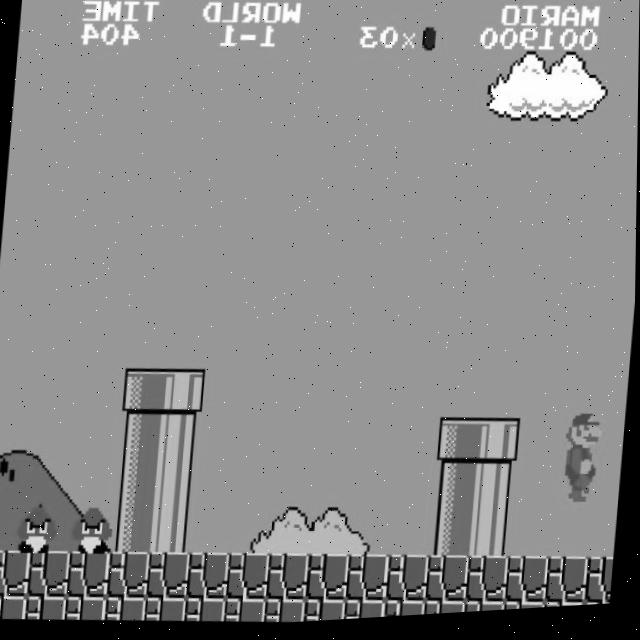0- big_mario: (559, 412, 609, 511)
14- pipe: (111, 504, 156, 556), (154, 460, 199, 511), (151, 505, 196, 556), (434, 466, 478, 518), (158, 414, 203, 464), (474, 467, 518, 518), (470, 513, 514, 564), (430, 512, 474, 563), (115, 459, 159, 510), (119, 413, 163, 463)
15- pipe_head: (162, 368, 207, 419), (122, 368, 167, 419), (477, 422, 522, 472), (437, 421, 482, 471)
17- undestructible_block: (67, 549, 112, 601), (506, 560, 551, 611), (466, 559, 511, 610), (426, 558, 471, 609), (386, 557, 431, 608), (346, 556, 391, 607), (107, 551, 152, 602), (546, 561, 590, 612), (307, 555, 351, 606), (267, 554, 311, 605), (227, 553, 271, 604), (187, 552, 231, 603), (147, 551, 191, 602), (28, 548, 72, 599), (0, 547, 32, 598), (586, 562, 615, 611), (65, 595, 109, 623), (25, 594, 69, 622), (265, 599, 308, 627), (225, 599, 268, 627), (185, 598, 228, 626), (145, 597, 188, 625), (105, 596, 148, 624), (305, 600, 348, 625), (345, 602, 388, 624), (384, 603, 427, 622), (0, 593, 28, 621), (424, 603, 467, 620), (464, 604, 507, 618), (504, 605, 547, 616), (544, 606, 587, 614)
8- goomba: (71, 503, 118, 557), (17, 502, 63, 556)
